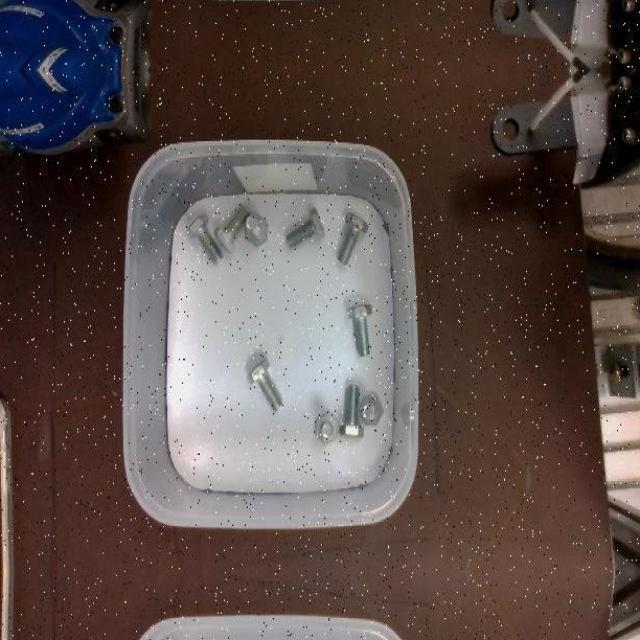screw: (186, 213, 224, 265), (214, 204, 252, 254), (247, 358, 283, 410), (338, 212, 369, 267), (287, 207, 326, 249), (348, 303, 374, 356), (340, 384, 365, 436), (315, 411, 339, 444), (246, 212, 269, 246), (360, 395, 385, 426)
